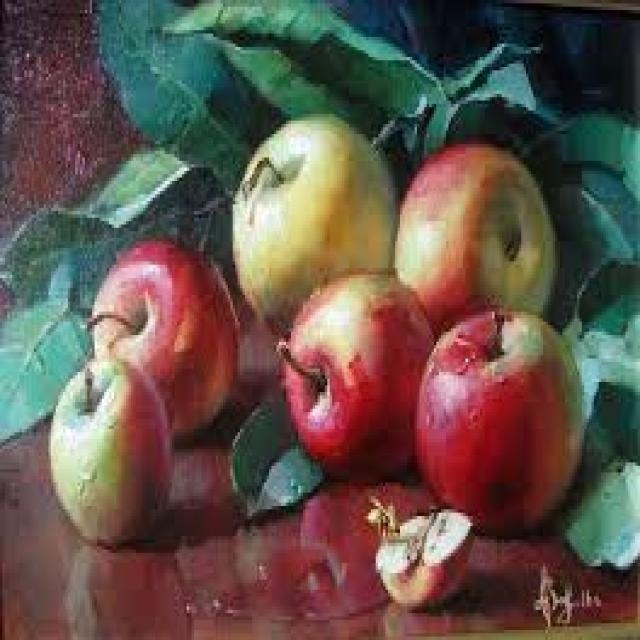agrume: (221, 126, 417, 350), (417, 309, 615, 527), (67, 218, 238, 451), (274, 249, 434, 494), (388, 134, 560, 351), (29, 334, 179, 543)
